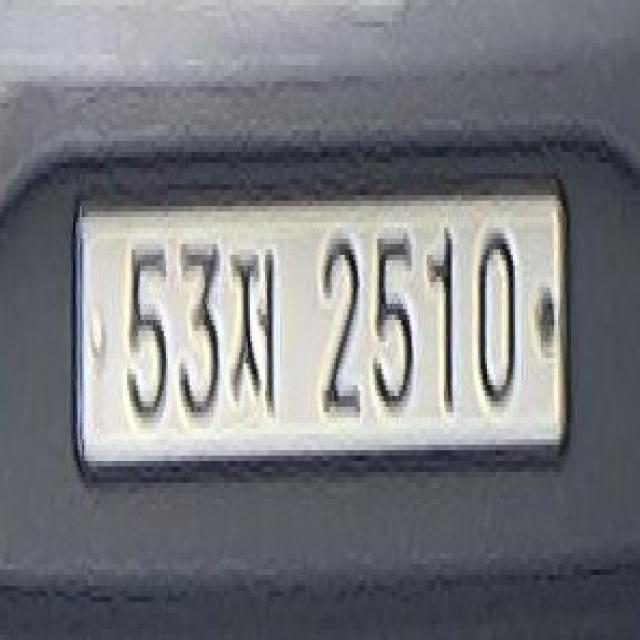0: (466, 212, 536, 428)
1: (424, 217, 466, 439)
2: (317, 233, 373, 445)
3: (179, 212, 226, 428)
5: (373, 206, 420, 439), (123, 228, 172, 418)
jeo: (224, 244, 282, 412)
license_plate: (69, 146, 577, 510)
